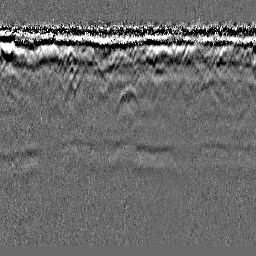cavity: (115, 85, 140, 114)
